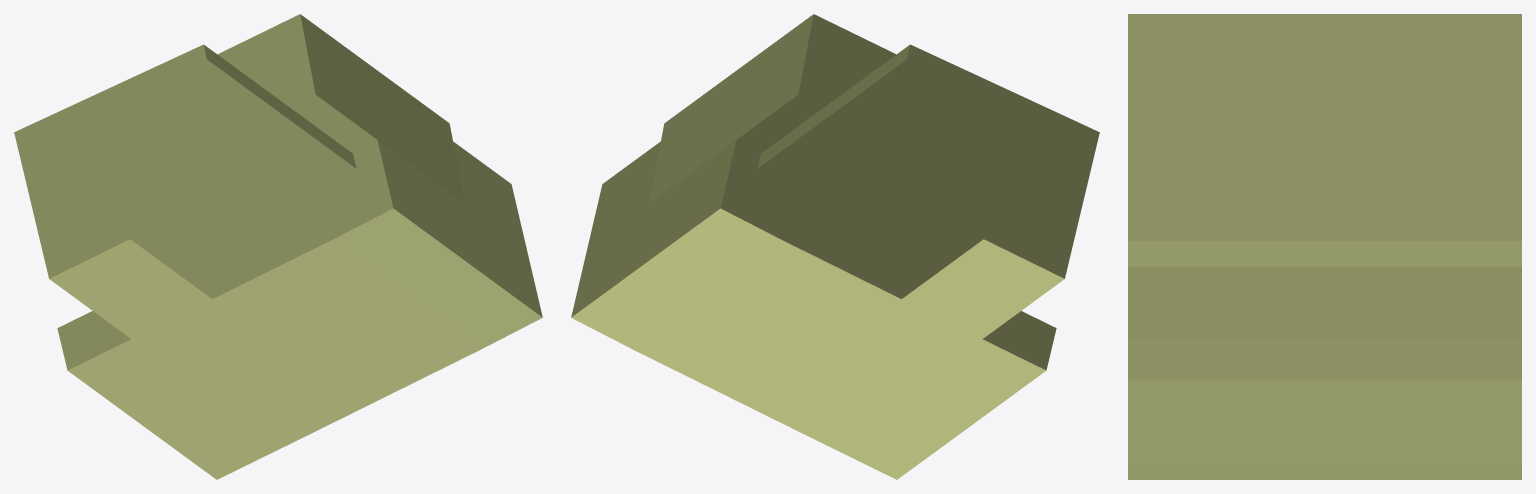
3 renders of one model, left to right at view 1: azimuth 30°, elevation 25°; view 2: azimuth 150°, elevation 25°; view 3: azimuth 270°, elevation 25°, orthographic. The views are drawn at different scales.
Visible parts, largest first — view 1: 0_1_2_0_3_3_0_3_3_2; view 2: 0_1_2_0_3_3_0_3_3_2; view 3: 0_1_2_0_3_3_0_3_3_2.
Boxes of the visible parts, box(x1,y1,x2,y2) form: 0_1_2_0_3_3_0_3_3_2: box(14, 14, 542, 479); 0_1_2_0_3_3_0_3_3_2: box(571, 14, 1099, 479); 0_1_2_0_3_3_0_3_3_2: box(1128, 14, 1521, 479).
Size of the model in its own units: 13.19 by 9.96 by 9.
